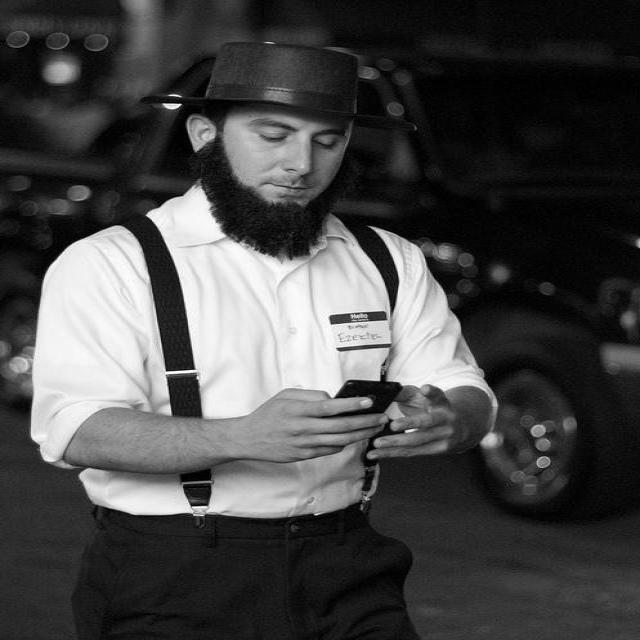vehicle: (381, 205, 640, 537)
